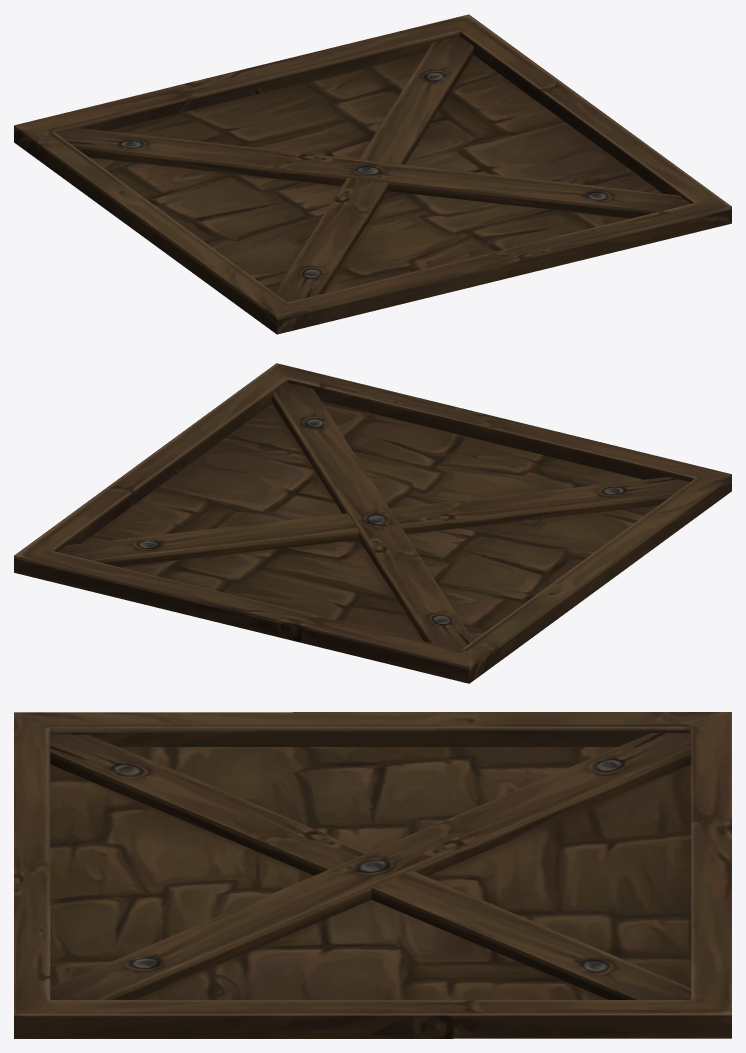
Rendered from mf_roof021.FBX.
3 views of the same model, one above another, from view 1: azimuth 30°, elevation 25°; view 2: azimuth 150°, elevation 25°; view 3: azimuth 270°, elevation 25° (orthographic). The views are drawn at different scales.
Visible parts, largest first — view 1: mf_roof021; view 2: mf_roof021; view 3: mf_roof021.
Part boxes in pixels (x1,y1,x2,y2): mf_roof021: (14,14,731,334); mf_roof021: (14,363,731,683); mf_roof021: (14,712,731,1038).
Size of the model in its own units: 2 by 0.0736 by 2.
1 material, 1 textured.
